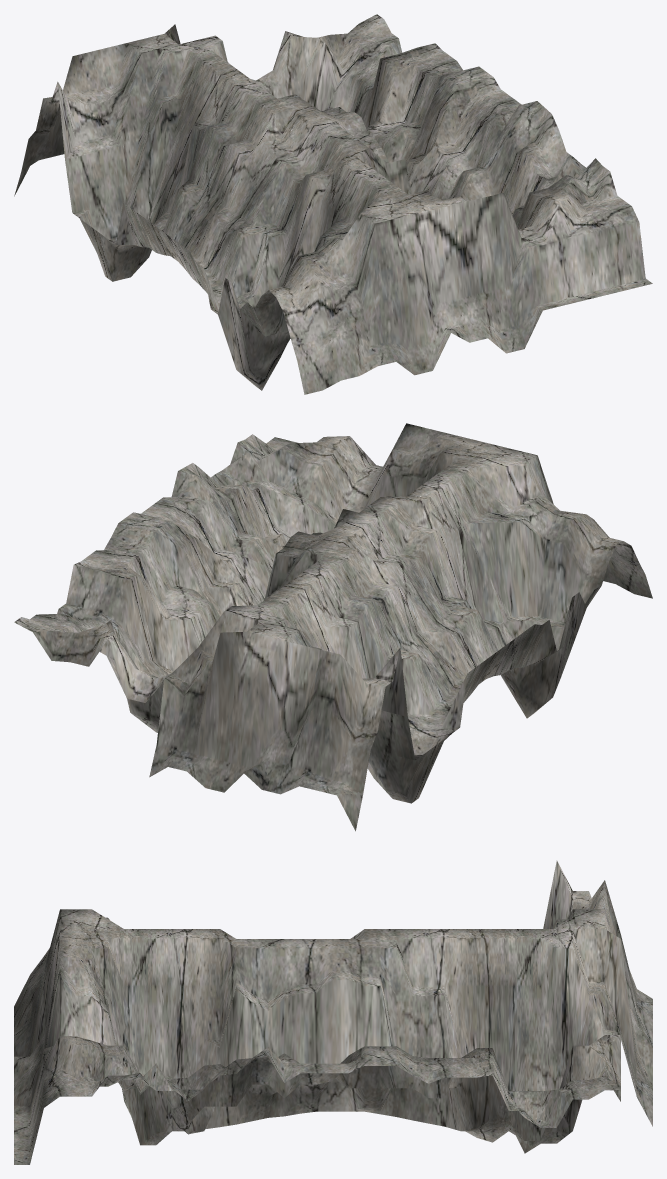
File: DWARF_PALACE_MAINHALL_CELLING02A.fbx
The picture shows the model from 3 angles, top to bottom: view 1: azimuth 30°, elevation 25°; view 2: azimuth 150°, elevation 25°; view 3: azimuth 270°, elevation 25°; orthographic projection. The views are drawn at different scales.
Visible parts, largest first — view 1: DWARF_PALACE_MAINHALL_CELLING02A; view 2: DWARF_PALACE_MAINHALL_CELLING02A; view 3: DWARF_PALACE_MAINHALL_CELLING02A.
Boxes of the visible parts, box(x1,y1,x2,y2) form: DWARF_PALACE_MAINHALL_CELLING02A: box(14, 14, 652, 394); DWARF_PALACE_MAINHALL_CELLING02A: box(14, 423, 652, 831); DWARF_PALACE_MAINHALL_CELLING02A: box(14, 860, 652, 1164).
Bounding box in the file's own units: 359782 × 193373 × 519419.
1 material, 1 textured.
